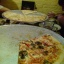pizza: (17, 31, 61, 64)
